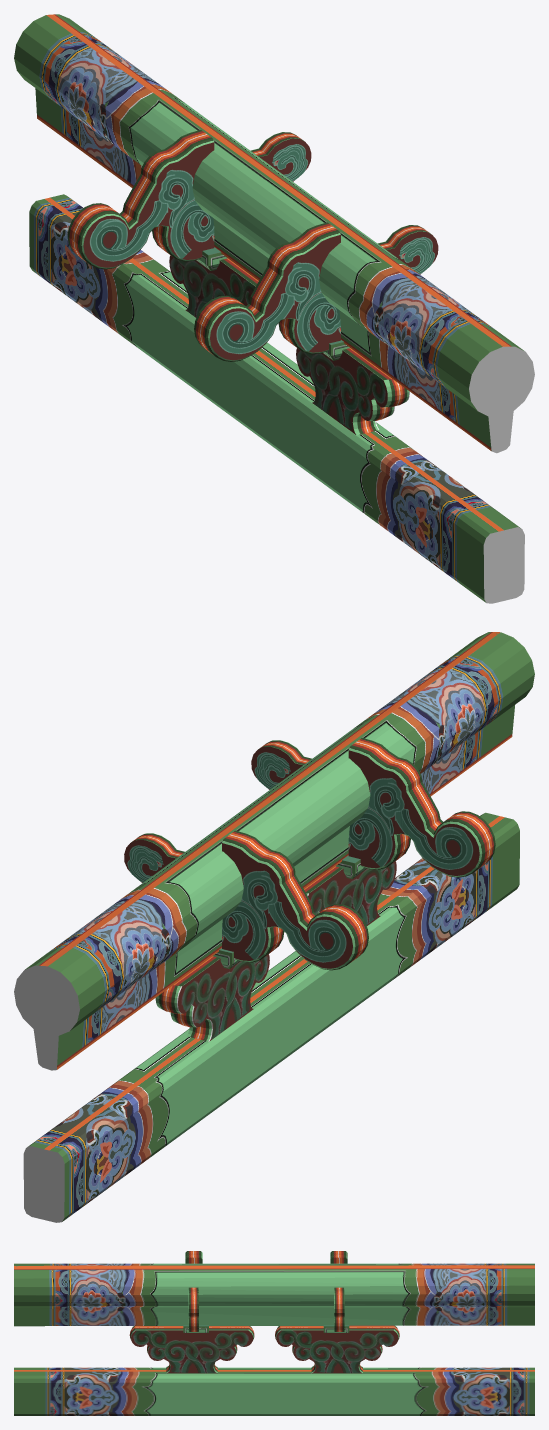
File: SM_R_Dancheong_20.fbx
The picture shows the model from 3 angles, top to bottom: view 1: azimuth 30°, elevation 25°; view 2: azimuth 150°, elevation 25°; view 3: azimuth 270°, elevation 25°; orthographic projection. The views are drawn at different scales.
Visible parts, largest first — view 1: SM_R_Dancheong_20_LOD0; view 2: SM_R_Dancheong_20_LOD0; view 3: SM_R_Dancheong_20_LOD0.
Part boxes in pixels (x1=…): SM_R_Dancheong_20_LOD0: x1=14, y1=14, x2=534, y2=603; SM_R_Dancheong_20_LOD0: x1=14, y1=632, x2=534, y2=1222; SM_R_Dancheong_20_LOD0: x1=14, y1=1251, x2=534, y2=1415.
Bounding box in the file's own units: 117 × 394 × 125.
